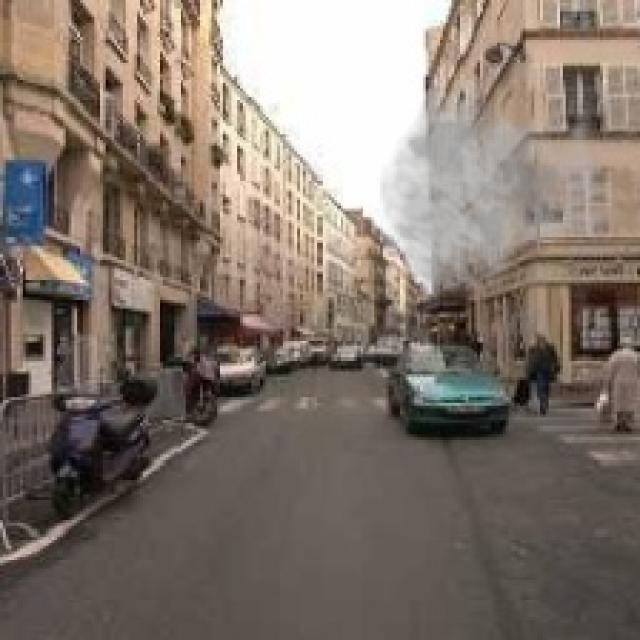Smoke: (377, 71, 617, 306)
